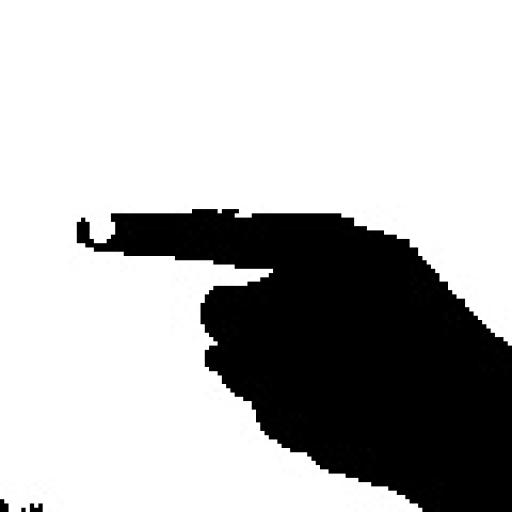index_left: (74, 207, 512, 422)
